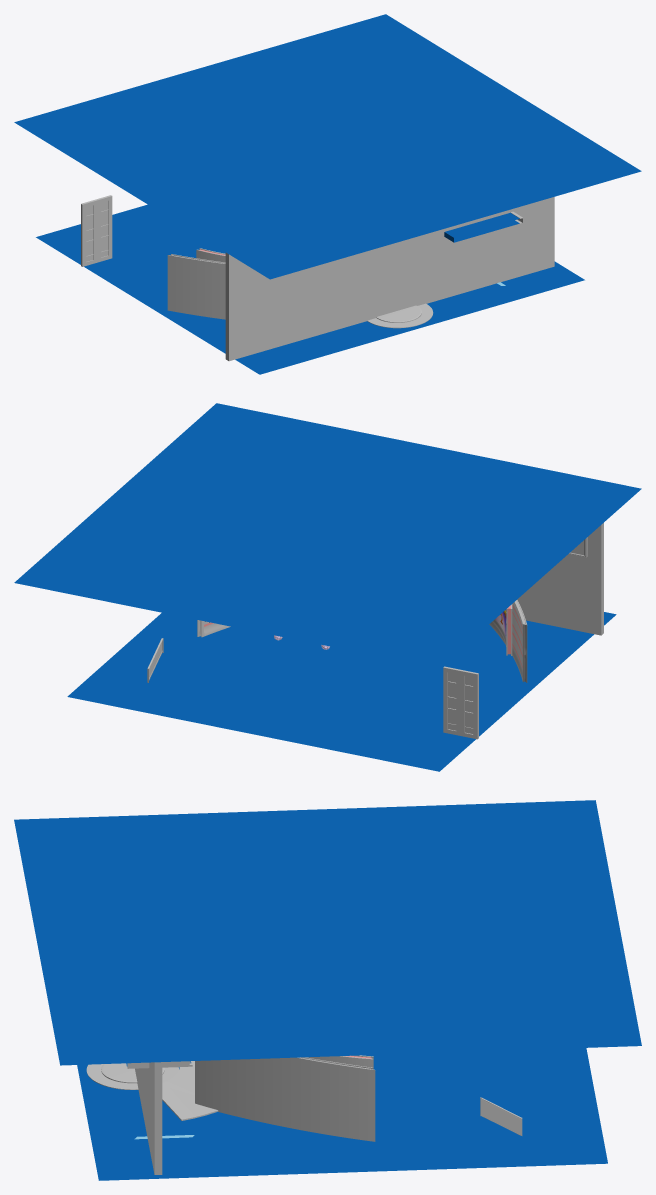
Rendered from StudioTelAviv_FromMaya.fbx.
3 renders of one model, top to bottom at view 1: azimuth 30°, elevation 25°; view 2: azimuth 150°, elevation 25°; view 3: azimuth 270°, elevation 25°, orthographic. The views are drawn at different scales.
Parts seen in each view (by area): view 1: SM_Floor5__1_, SM_Floor19, Wall19, Wall18, Wall17, Wall15, Wall16, SM_VideoBeamHoldere2, SM_Floor21, SM_Floor9, SM_Floor20, SM_Floor8 (+4 smaller); view 2: SM_Floor5__1_, SM_Floor4, SM_Floor5, SM_Floor19, SM_Floor20, Wall19, SM_Floor6, SM_Floor7, SM_Floor21, SM_WallPannel3, SM_WallPannel2, SM_VideoBeamHoldere2 (+1 smaller); view 3: SM_Floor5__1_, SM_VideoBeamHoldere_69, SM_Floor5, SM_Floor9, SM_Floor7, SM_Floor4, SM_Pied_77__1_, SM_Floor6, Wall15, SM_Floor8, SM_Stair_Railing_50.
Boxes of the visible parts, <box> form: SM_Floor5__1_: <box>14,14,641,279</box>; SM_Floor19: <box>36,206,218,282</box>; Wall19: <box>225,252,293,361</box>; Wall18: <box>294,253,359,342</box>; Wall17: <box>359,234,424,323</box>; Wall15: <box>489,197,554,285</box>; Wall16: <box>424,215,489,303</box>; SM_VideoBeamHoldere2: <box>167,254,225,319</box>; SM_Floor21: <box>185,319,367,374</box>; SM_Floor9: <box>452,261,584,311</box>; SM_Floor20: <box>110,251,219,328</box>; SM_Floor8: <box>344,296,476,343</box>; SM_Floor5__1_: <box>14,403,641,668</box>; SM_Floor4: <box>191,669,373,746</box>; SM_Floor5: <box>67,644,249,721</box>; SM_Floor19: <box>315,694,498,771</box>; SM_Floor20: <box>375,648,556,719</box>; Wall19: <box>527,523,603,635</box>; SM_Floor6: <box>251,637,409,694</box>; SM_Floor7: <box>126,612,285,669</box>; SM_Floor21: <box>463,612,616,666</box>; SM_WallPannel3: <box>460,670,478,739</box>; SM_WallPannel2: <box>443,666,461,735</box>; SM_VideoBeamHoldere2: <box>489,600,527,682</box>; SM_Floor5__1_: <box>14,800,641,1065</box>; SM_VideoBeamHoldere_69: <box>195,1057,375,1141</box>; SM_Floor5: <box>425,1092,607,1169</box>; SM_Floor9: <box>85,1106,268,1180</box>; SM_Floor7: <box>258,1097,438,1174</box>; SM_Floor4: <box>416,1048,594,1097</box>; SM_Pied_77__1_: <box>86,1061,218,1120</box>; SM_Floor6: <box>362,1053,424,1099</box>; Wall15: <box>146,1062,162,1174</box>; SM_Floor8: <box>77,1064,179,1108</box>; SM_Stair_Railing_50: <box>480,1097,522,1135</box>.
Size of the model in its own units: 21280 by 5498 by 21280.
